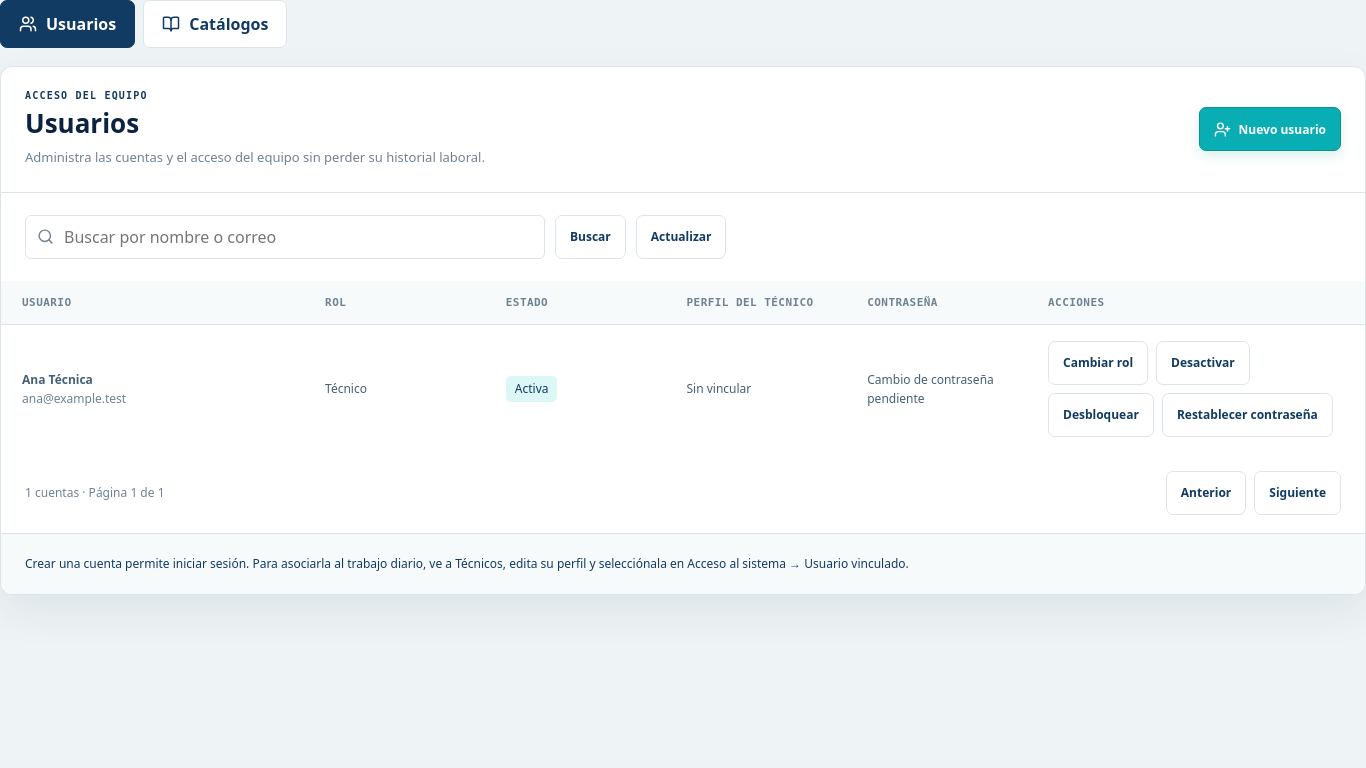
Test: usuarios en configuración › mantiene visible la acción en curso e impide cambiar de sección o enviarla dos veces
Click the button "Desactivar" at (1203, 363), box [1156,341,1250,385]
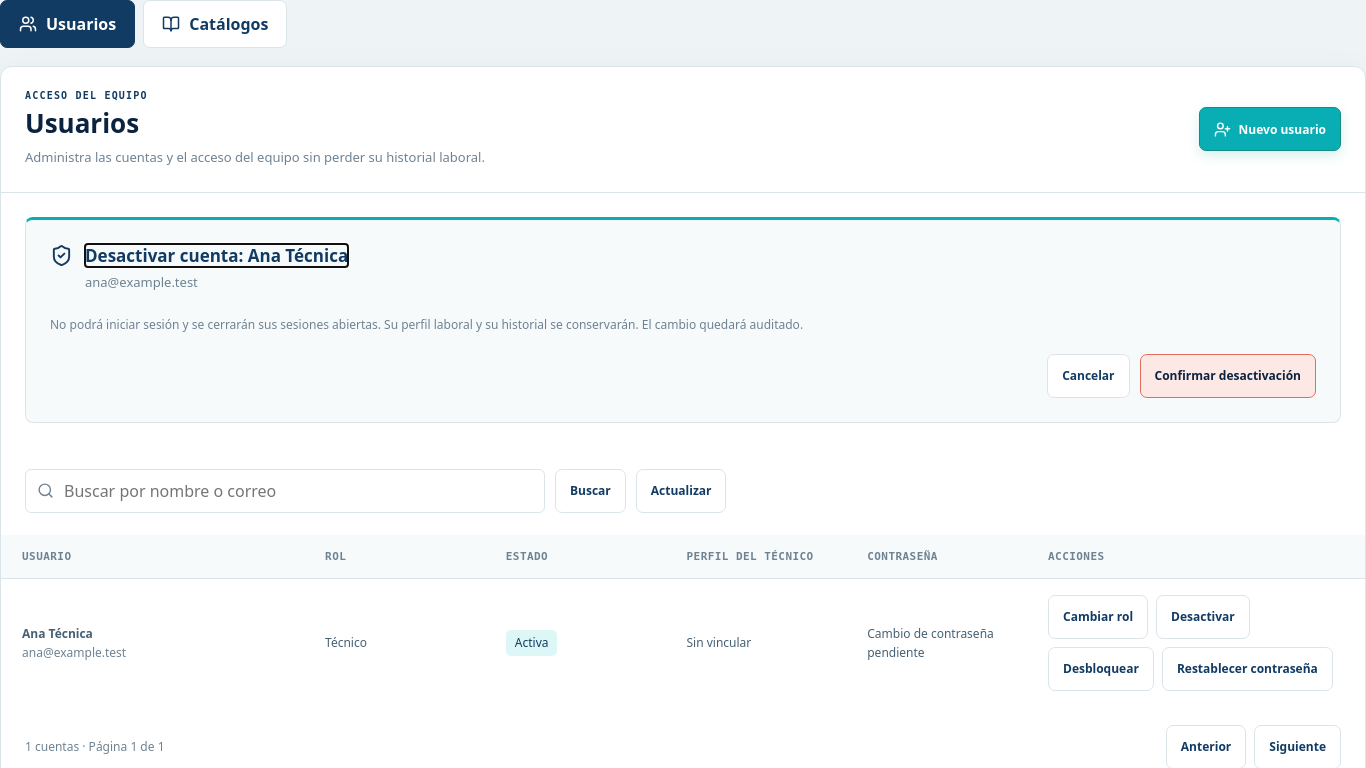
Click the button "Confirmar desactivación" at (1228, 376), box [1140,354,1316,398]
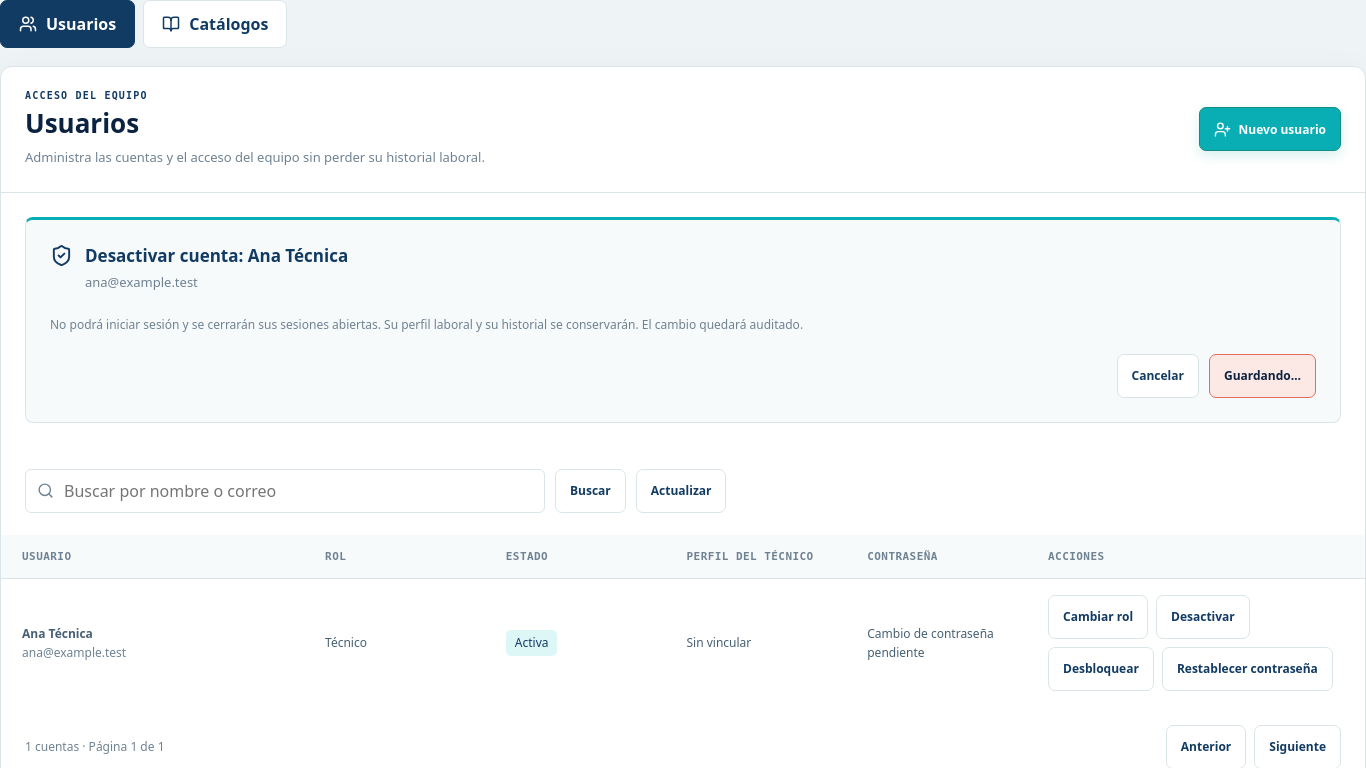
Expected: the button "Catálogos" is disabled, [143,0,287,48]
Result: the button "Guardando…" is disabled
Result: the button "Cancelar" is disabled at [1116,354,1199,398]
Click the button "Guardando…" at (1262, 376), box [1209,354,1316,398]
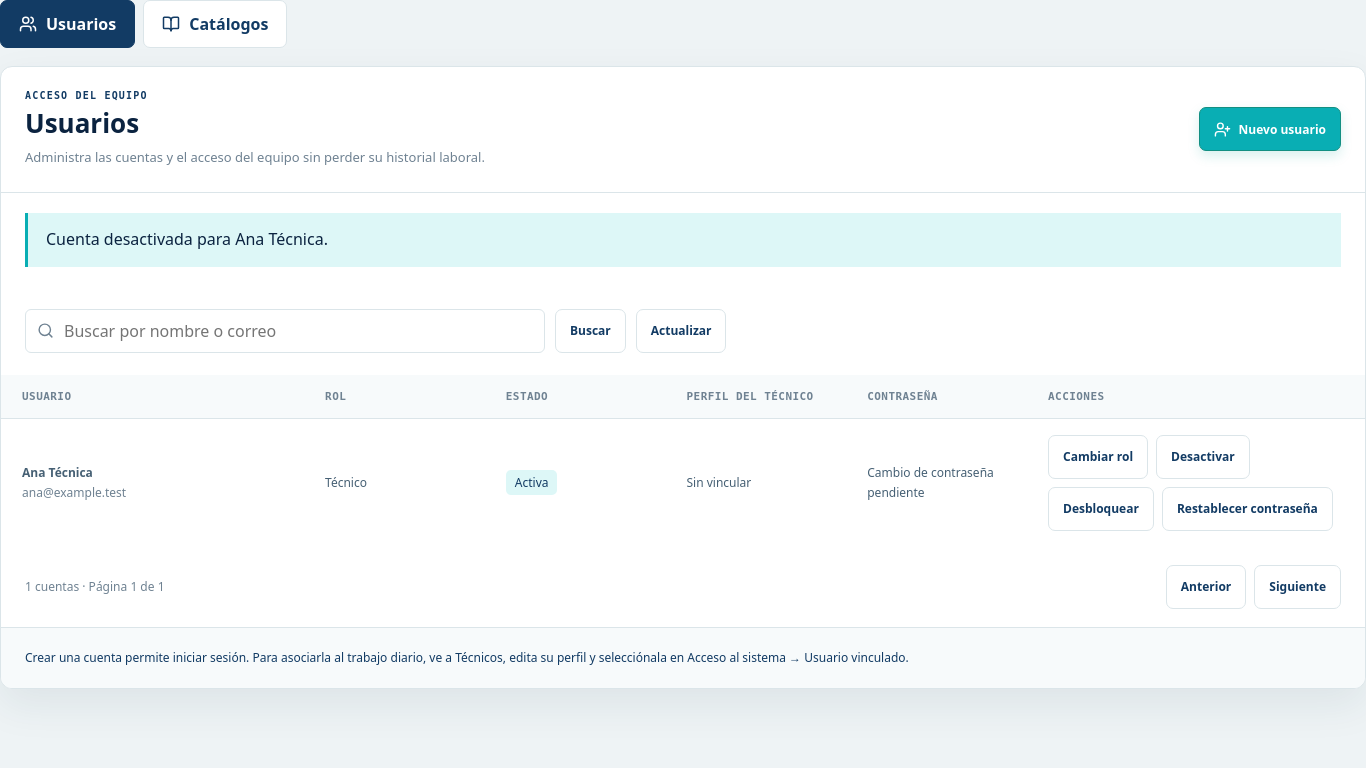
Expected: the button "Catálogos" is enabled, [143,0,287,48]
Result: the message shows "Cuenta desactivada" at [46,228,328,250]
